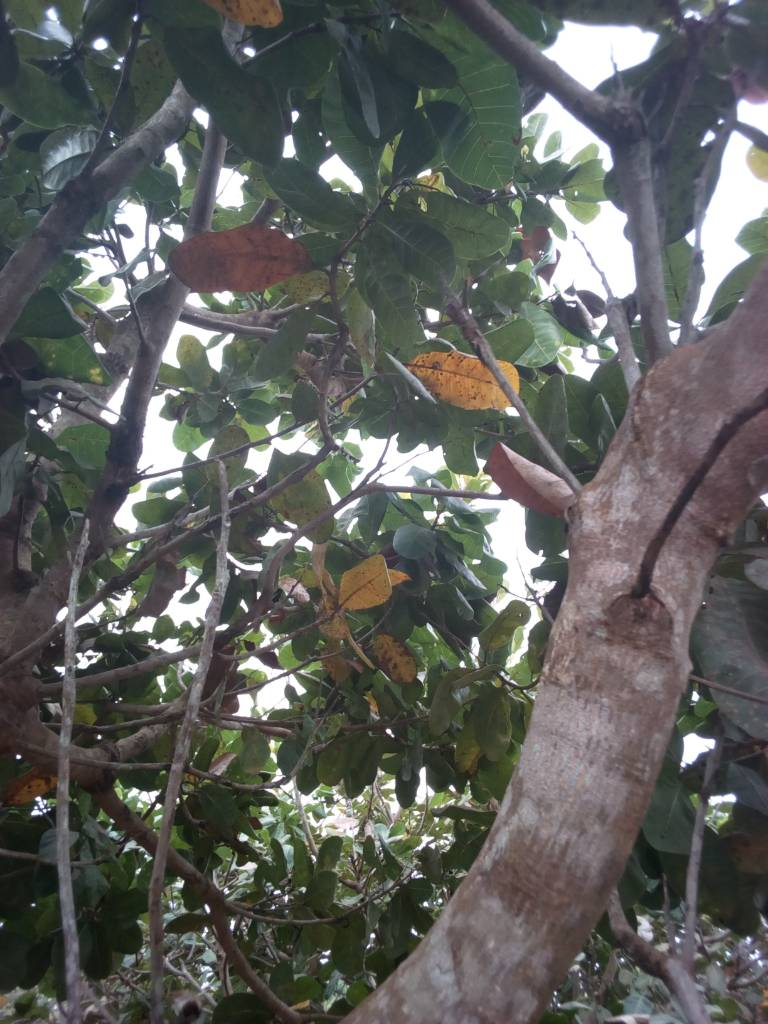Bactériose: (638, 392, 768, 594), (405, 349, 518, 411), (369, 632, 424, 688)
